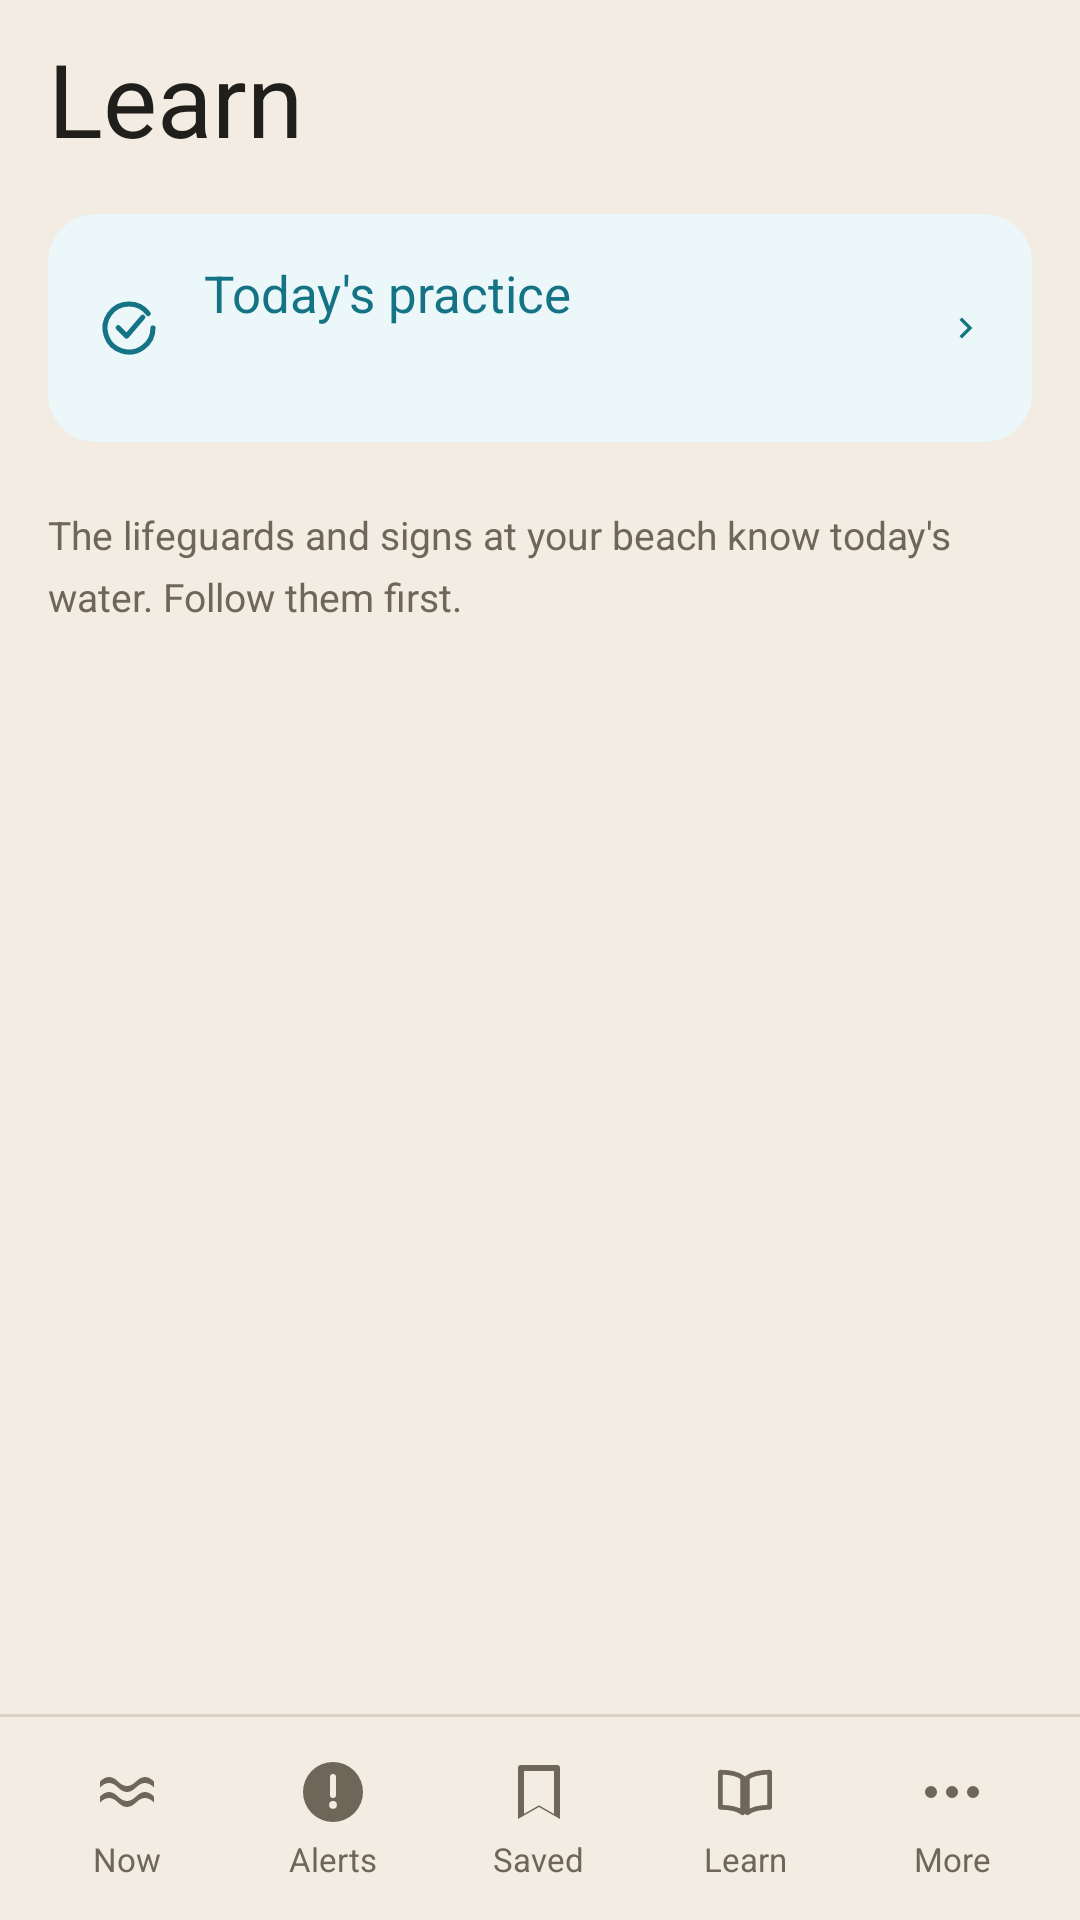

Icon bounding boxes for this 1080x1920 phone screenshot, format (x1, y1, x2, y2):
book: (718, 1769, 772, 1816)
bookmark: (518, 1765, 560, 1819)
dots: (925, 1786, 979, 1798)
warning circle: (303, 1762, 363, 1822)
wave: (100, 1777, 154, 1807)
